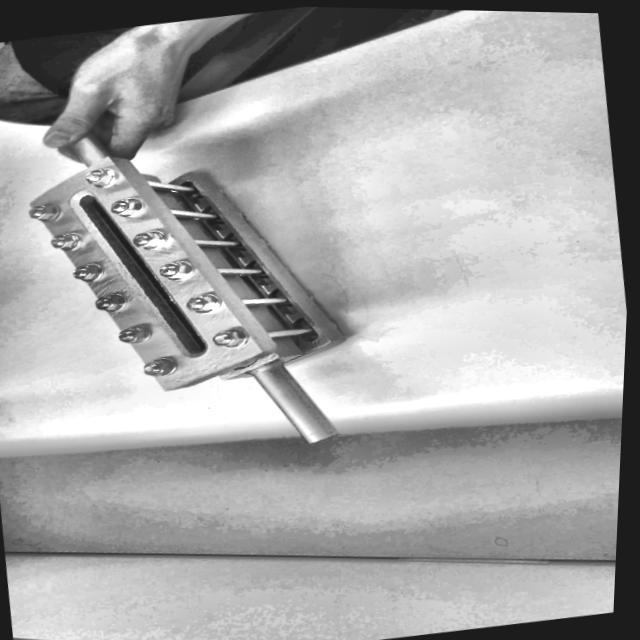ShuiWeiQi_12: (0, 95, 408, 493)
